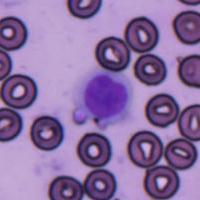L: (71, 69, 134, 126)
